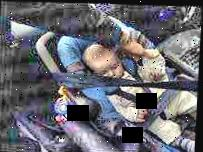seatbelt: (55, 68, 200, 94), (139, 81, 185, 120), (117, 86, 150, 108), (129, 62, 152, 88)
